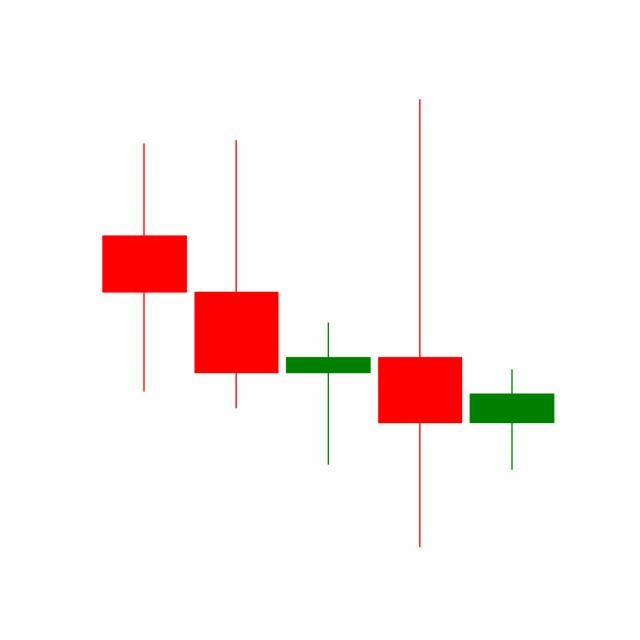Hammer: (374, 95, 468, 553)
